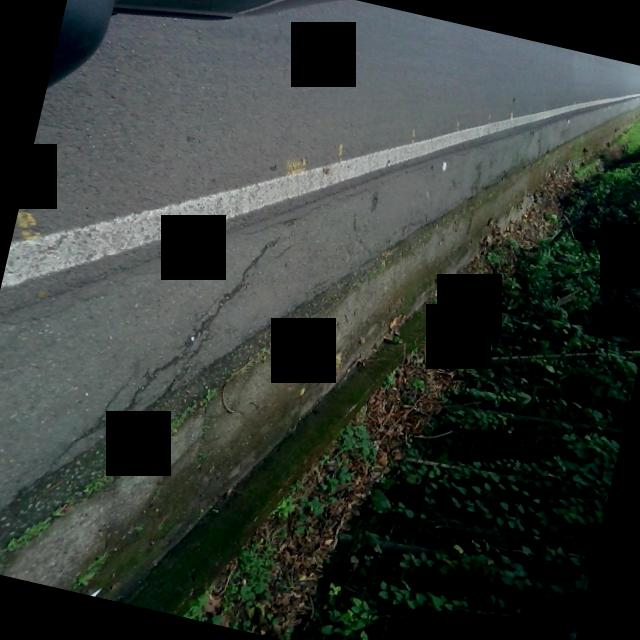DITCH: (0, 0, 640, 640), (0, 0, 638, 640)
